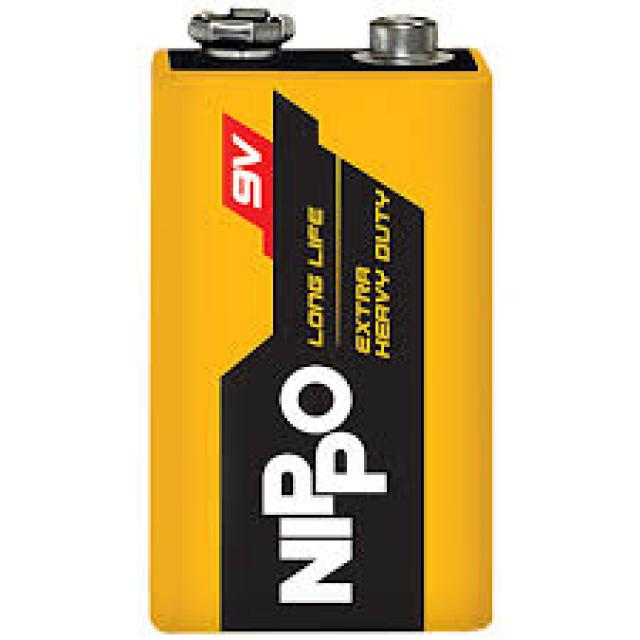Battery: (145, 26, 508, 627)
